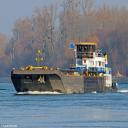tugboat: (67, 40, 120, 94)
